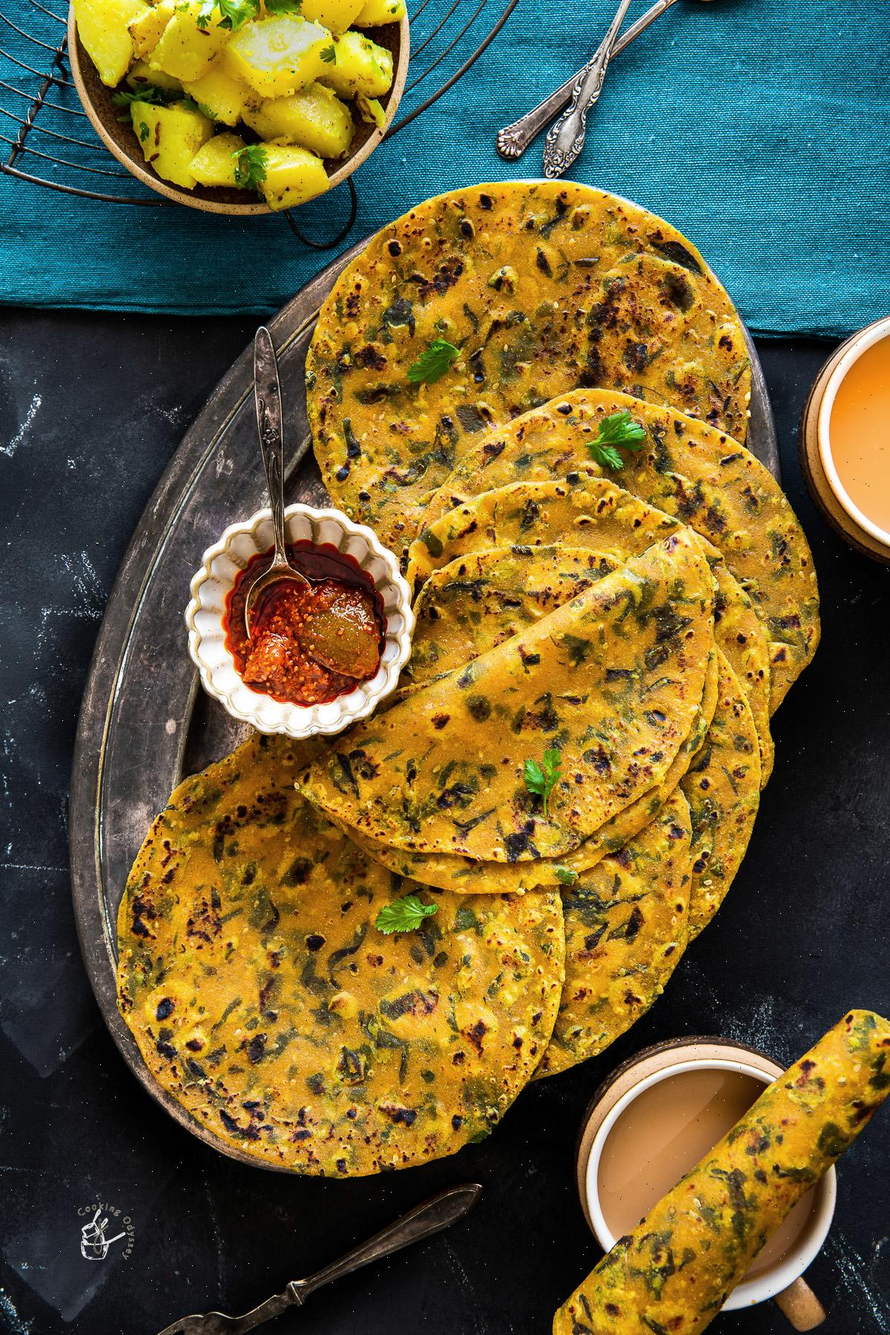aloo sabji: (79, 0, 414, 225)
thepla: (114, 726, 569, 1187)
